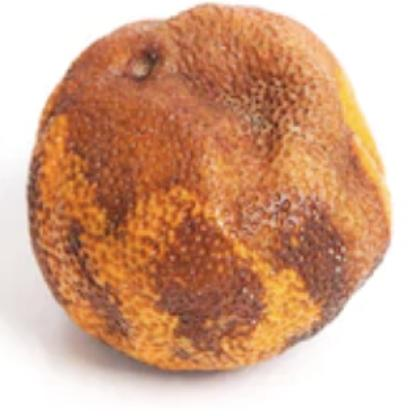rotten: (27, 7, 392, 374)
